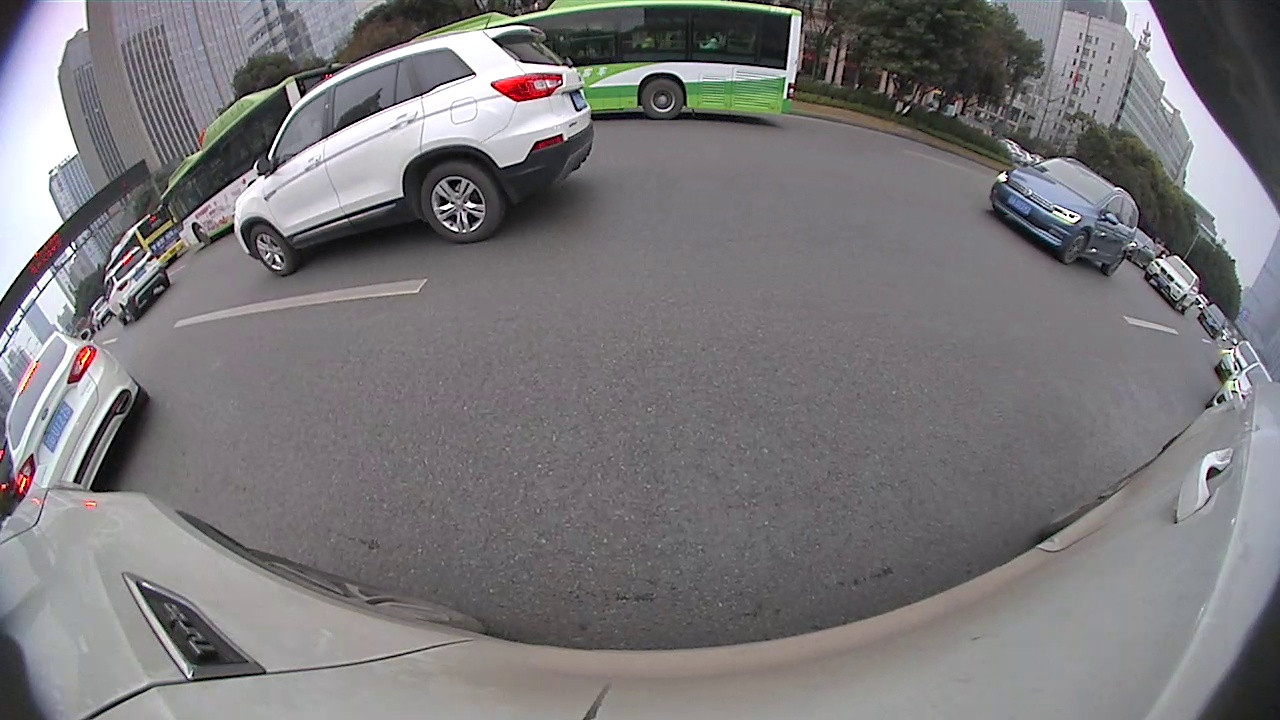bus: (399, 2, 804, 127), (156, 66, 346, 256)
car: (229, 23, 596, 279), (7, 326, 150, 498), (989, 152, 1143, 278), (99, 245, 172, 328)
front: (250, 223, 297, 278), (1063, 230, 1088, 265), (193, 223, 211, 247)
rear: (420, 158, 505, 243), (640, 78, 685, 122), (1106, 252, 1125, 278)
